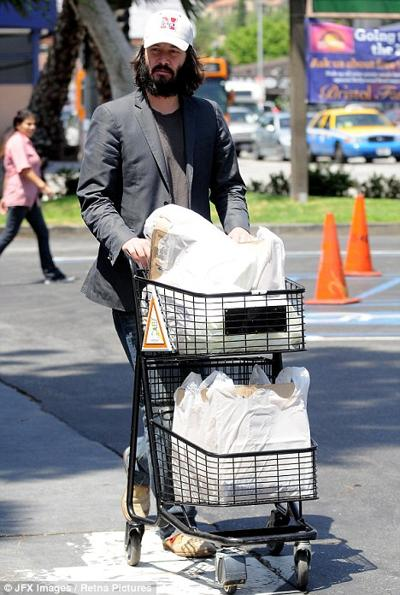person: (78, 7, 256, 558)
